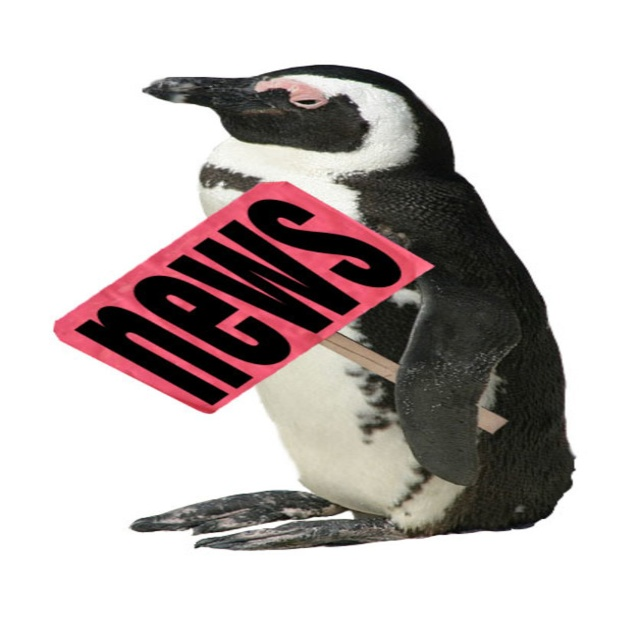Penguin: (129, 60, 576, 554)
